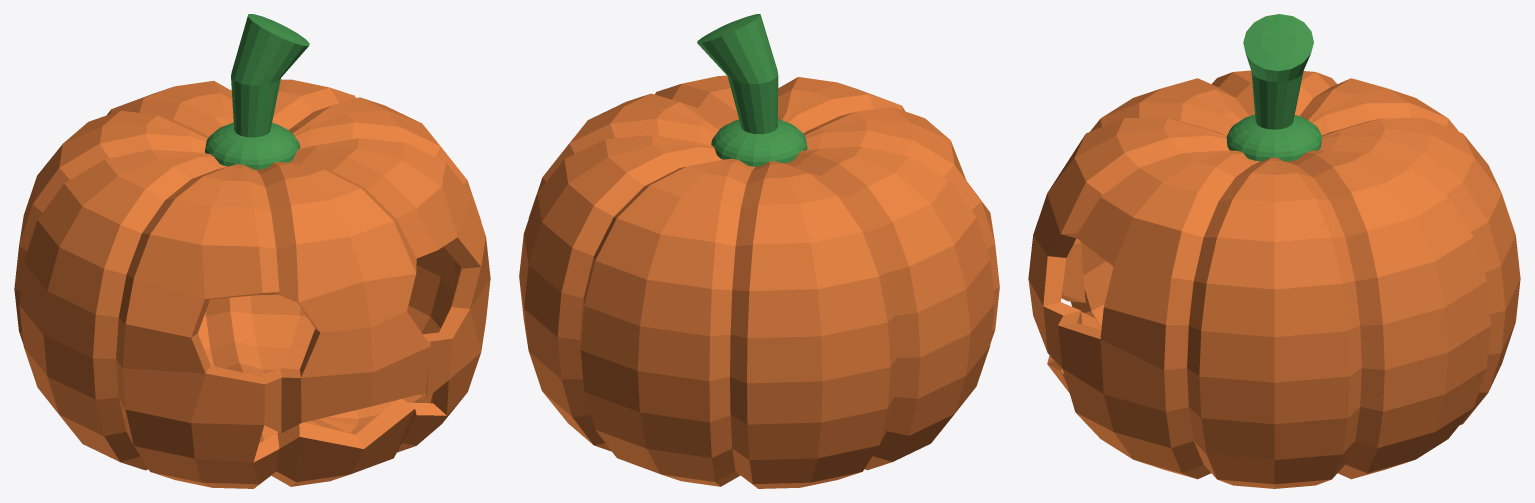
The model's file is pumpkin.fbx.
3 renders of one model, left to right at view 1: azimuth 30°, elevation 25°; view 2: azimuth 150°, elevation 25°; view 3: azimuth 270°, elevation 25°, orthographic.
Parts seen in each view (by area): view 1: Sphere, Sphere.001; view 2: Sphere, Sphere.001; view 3: Sphere, Sphere.001.
Part boxes in pixels (bbox=[...]): Sphere: bbox=[14, 79, 490, 488]; Sphere.001: bbox=[205, 14, 309, 169]; Sphere: bbox=[519, 75, 999, 488]; Sphere.001: bbox=[697, 14, 807, 166]; Sphere: bbox=[1028, 70, 1520, 488]; Sphere.001: bbox=[1226, 14, 1322, 161].
Bounding box in the file's own units: 200 × 187 × 200.
